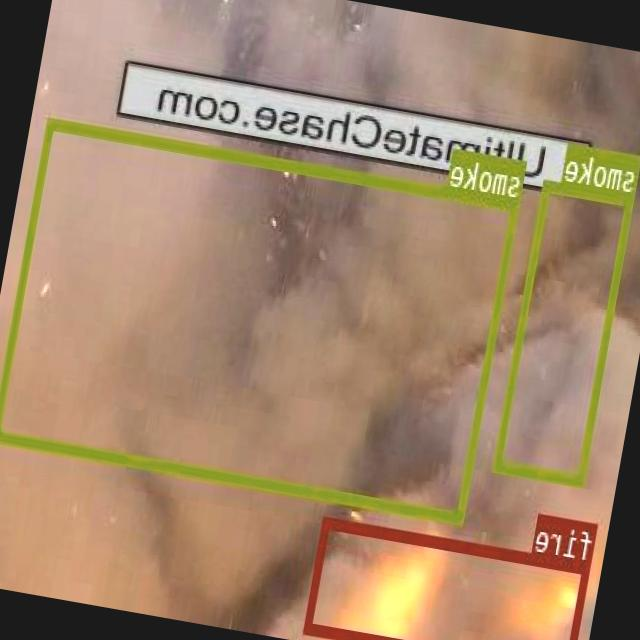fire: (304, 515, 593, 640)
smoke: (0, 116, 521, 523), (494, 178, 636, 486)
